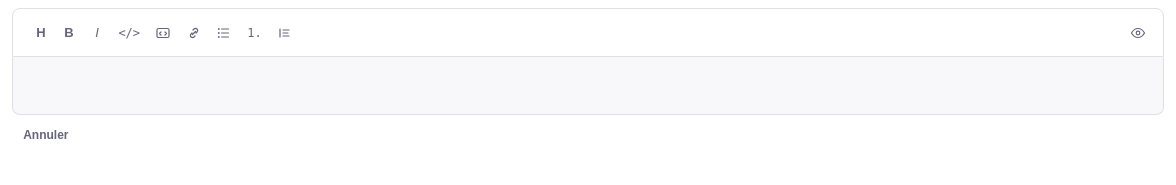
Test: MarkdownEditor — menus déroulants › le menu se ferme sur Échap et au clic extérieur, pas au clic intérieur
Click the button named "Titre": (41, 32) top-left (27, 18), bottom-right (55, 46)
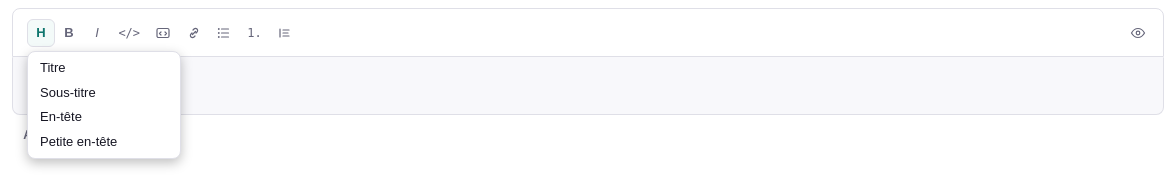
Press Escape
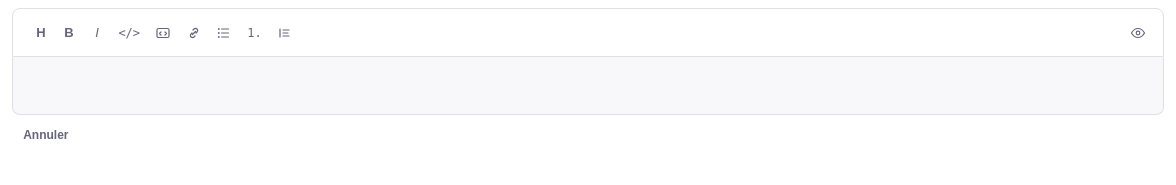
Expected: the menu is gone
Click the button named "Titre": (41, 32) top-left (27, 18), bottom-right (55, 46)
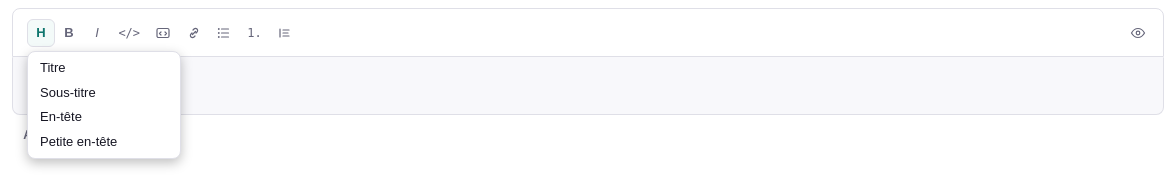
# Clic DANS le menu : reste ouvert.
Press the mouse on the menu: (104, 105) top-left (27, 50), bottom-right (181, 159)
Expected: the menu is shown, top-left (27, 50), bottom-right (181, 159)
# Autre touche : reste ouvert.
Press a
Expected: the menu is shown, top-left (27, 50), bottom-right (181, 159)
# Clic en dehors : se ferme.
Press the mouse on the element showing "H Titre Sous-titre En-tête Petite en-tête B I </> Annuler": (588, 78) top-left (12, 8), bottom-right (1164, 147)
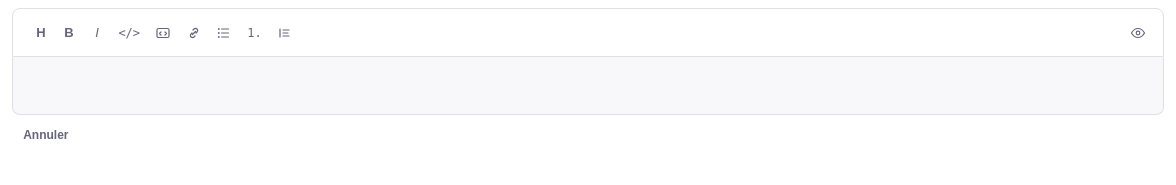
Expected: the menu is gone
Expected: the button named "Titre" is collapsed, top-left (27, 18), bottom-right (55, 46)
